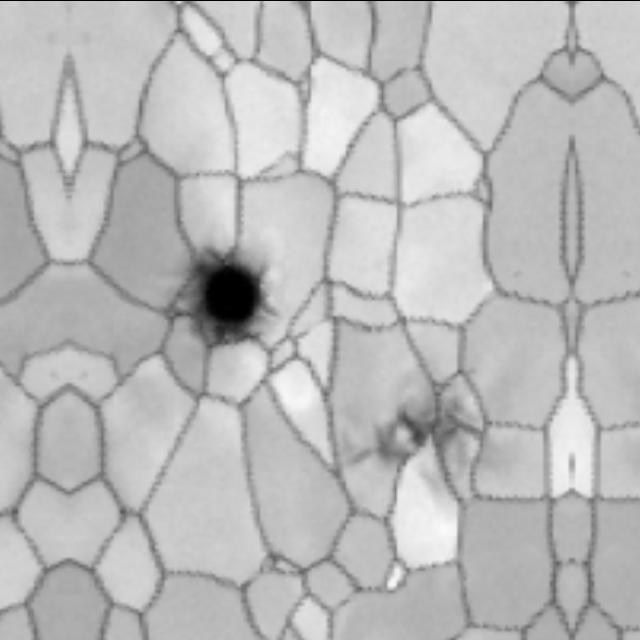good_void: (339, 363, 489, 511), (172, 237, 285, 364)
